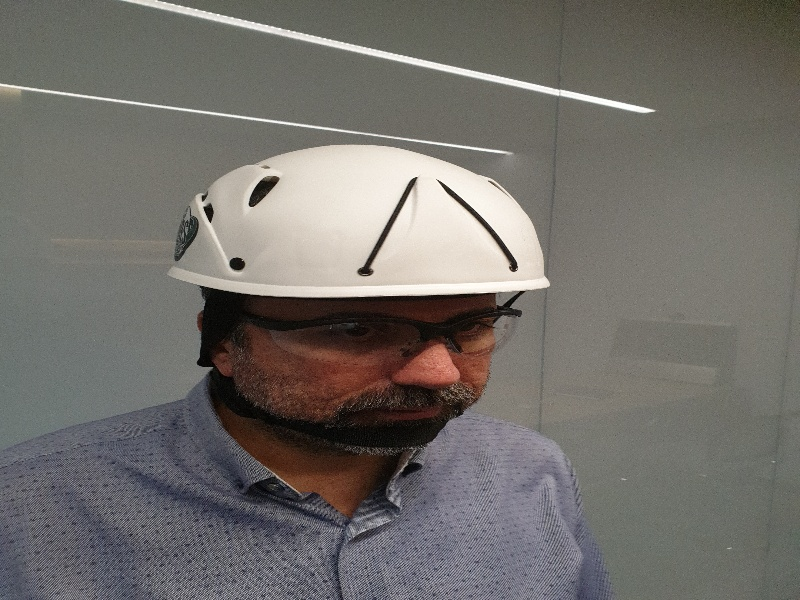Baret: (169, 143, 548, 292)
Gozluk: (232, 306, 524, 360)
